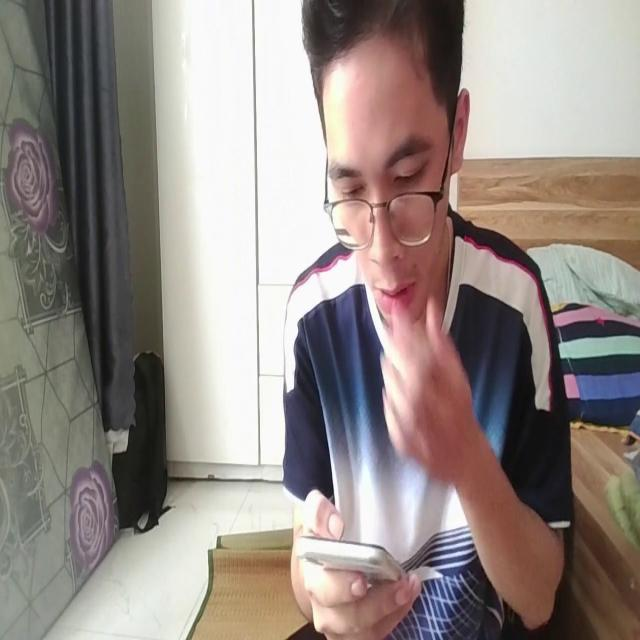phone: (294, 527, 413, 588)
student: (276, 0, 572, 640)
